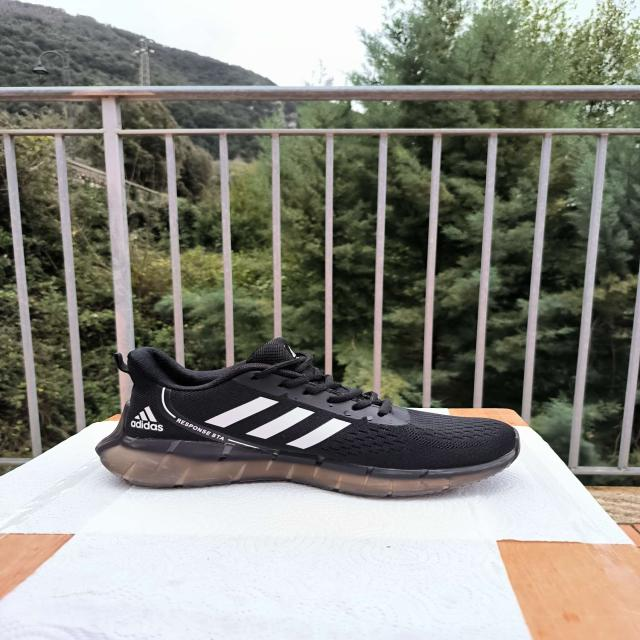shoes: (94, 335, 522, 499)
